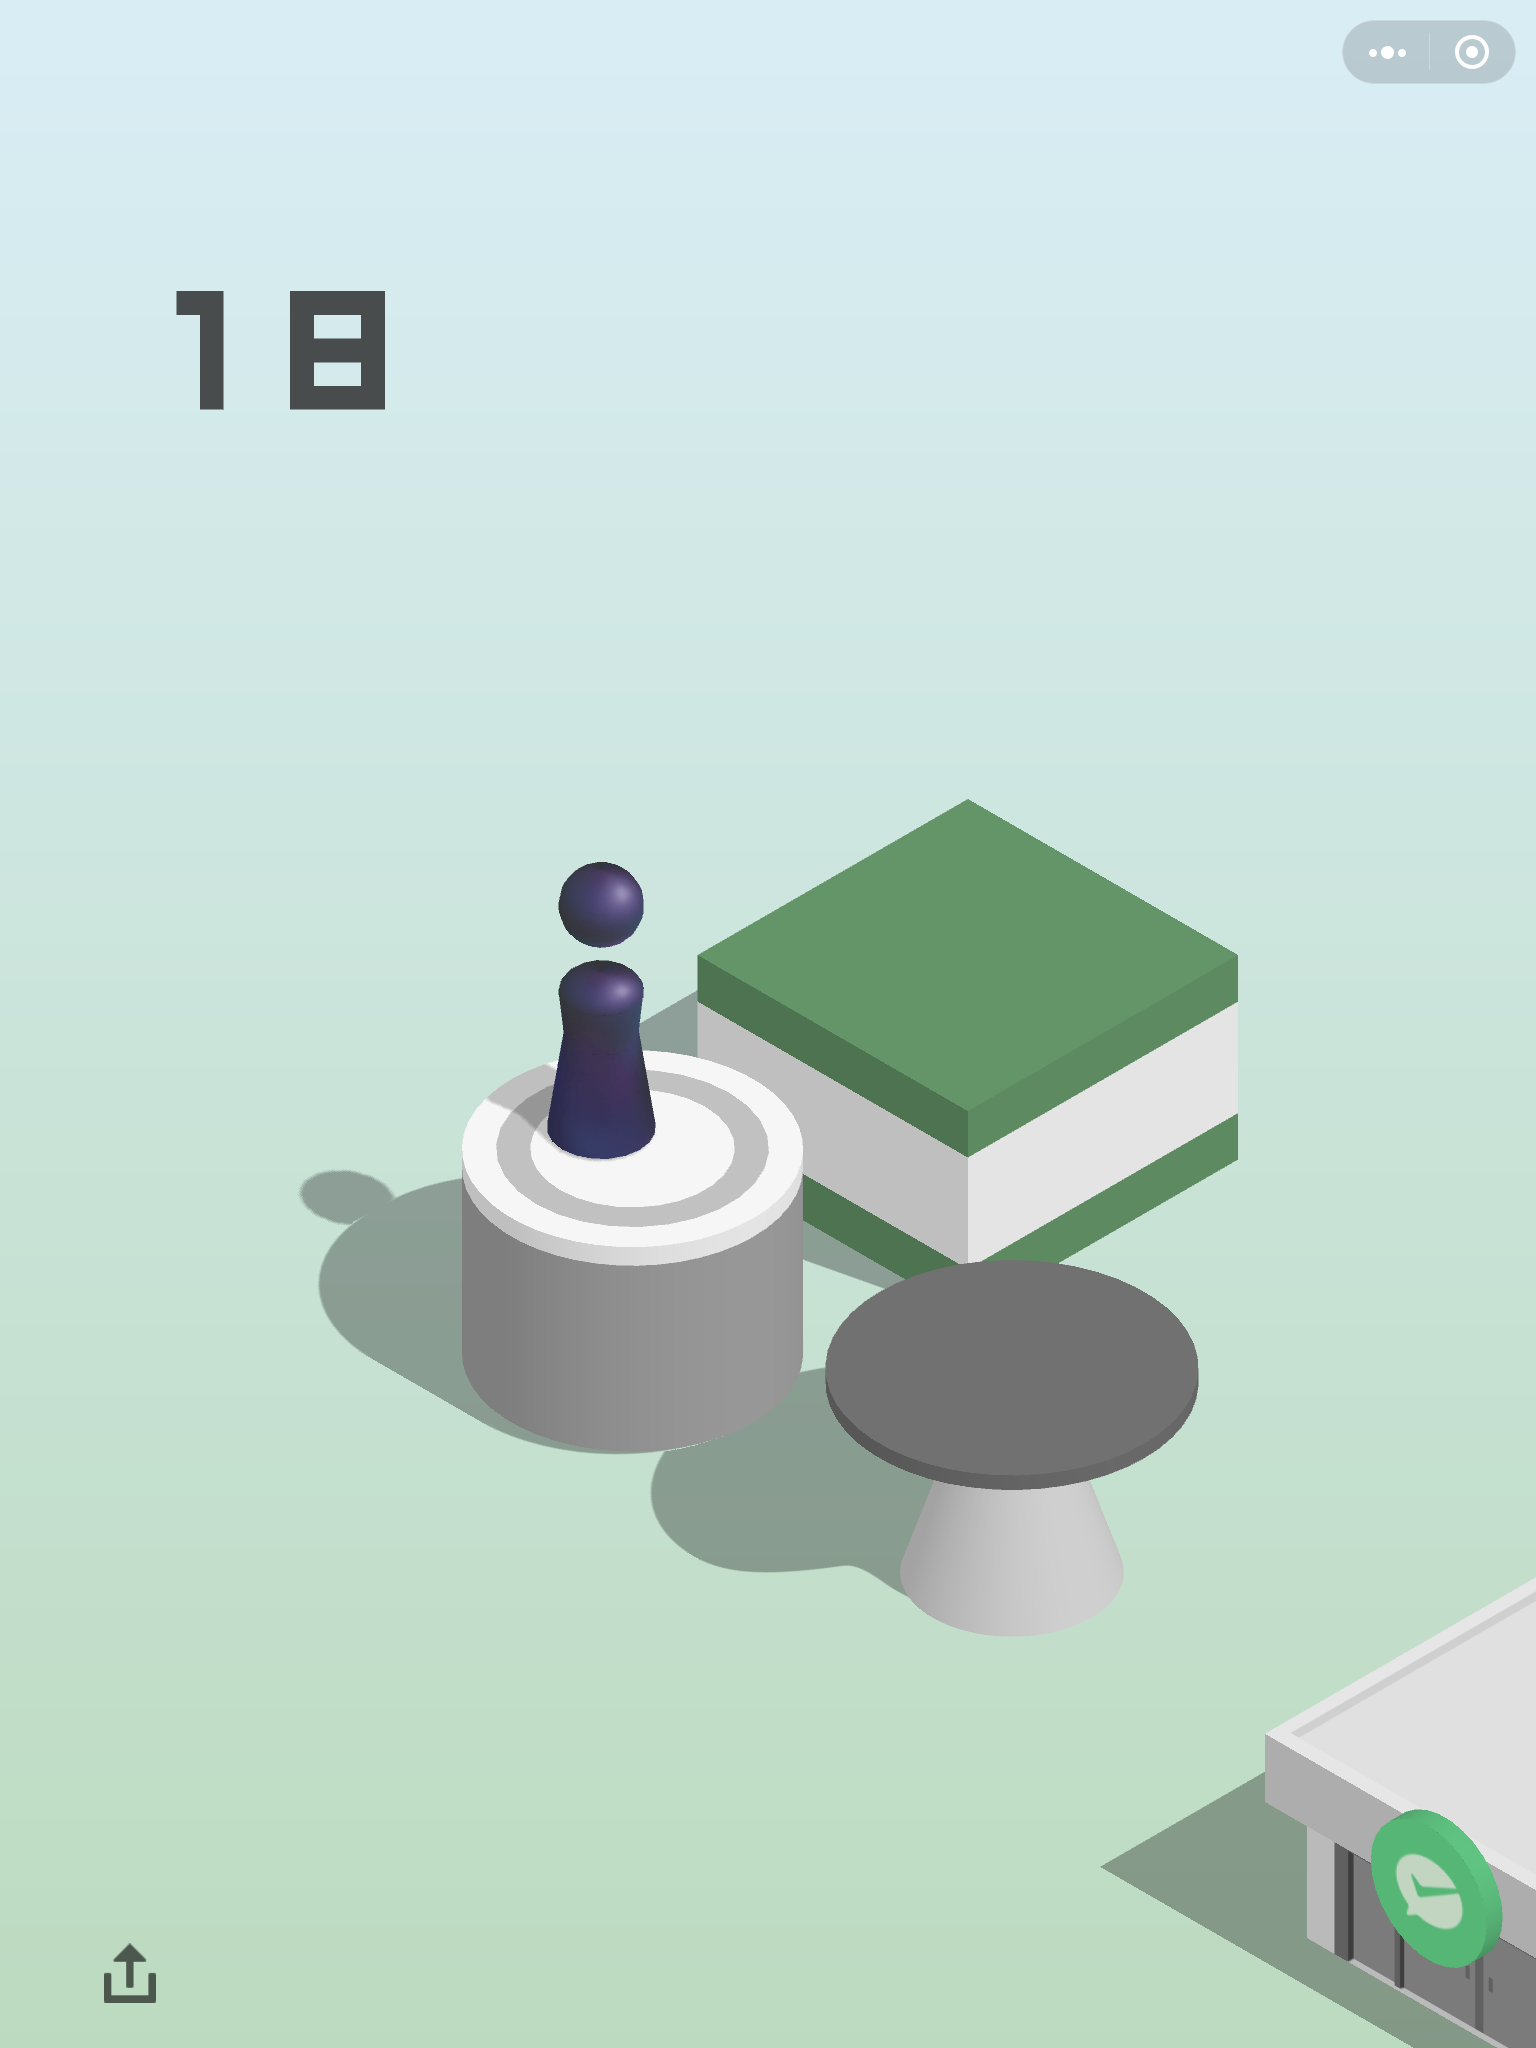c: (455, 1042, 808, 1459), (821, 1256, 1204, 1642)
f: (694, 798, 1246, 1295), (1258, 1561, 1536, 2046)
r: (545, 855, 663, 1164)
